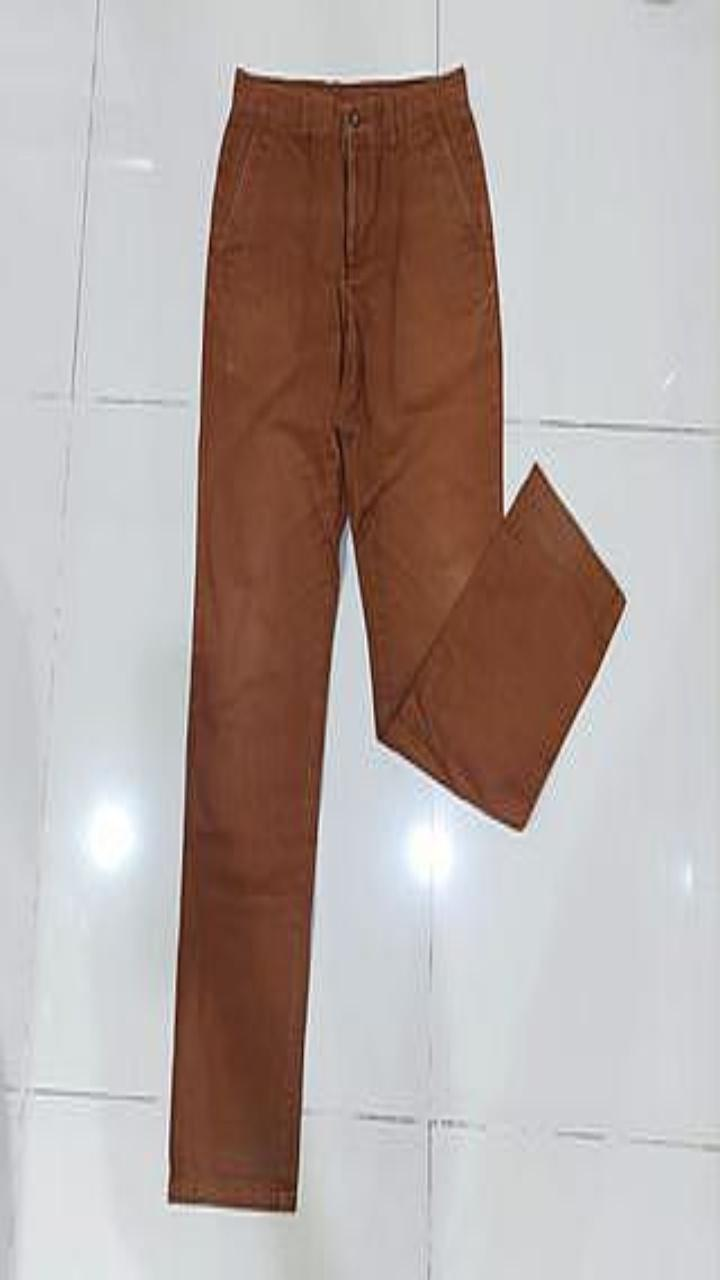Jeans: (169, 66, 624, 1209)
